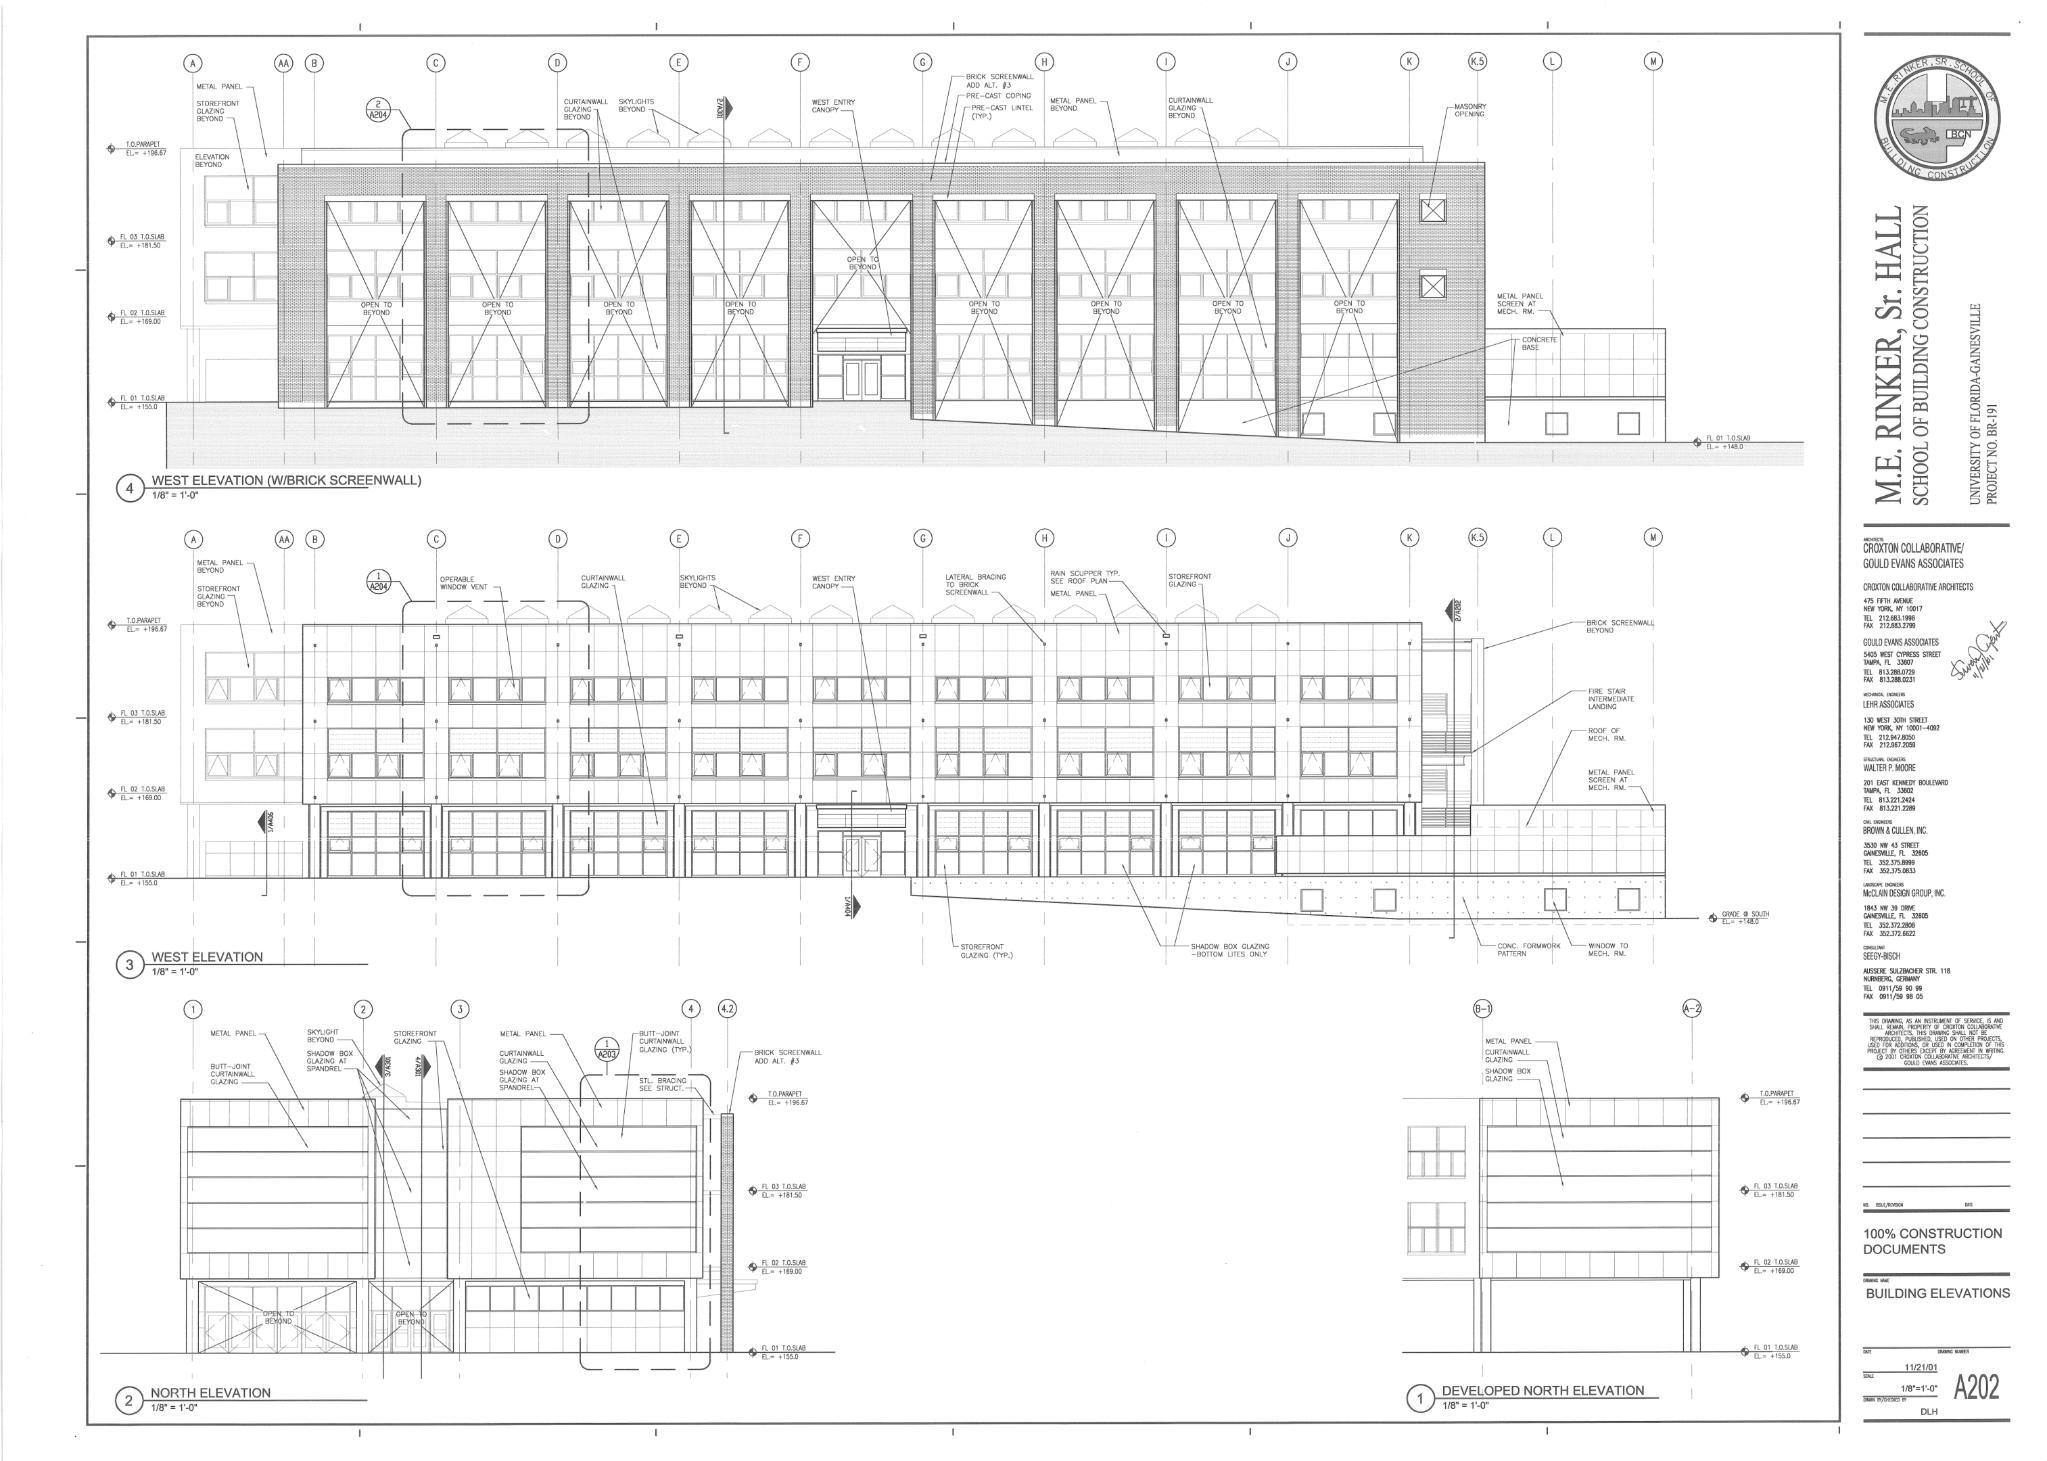detail: (364, 564, 413, 609), (364, 95, 411, 131)
elevation: (714, 93, 737, 436), (371, 1051, 394, 1384), (1445, 596, 1464, 941), (414, 1050, 433, 1382), (844, 786, 865, 923), (256, 806, 277, 901)
title: (1405, 1379, 1664, 1417), (115, 471, 424, 503), (114, 1384, 371, 1420), (115, 947, 373, 982)
